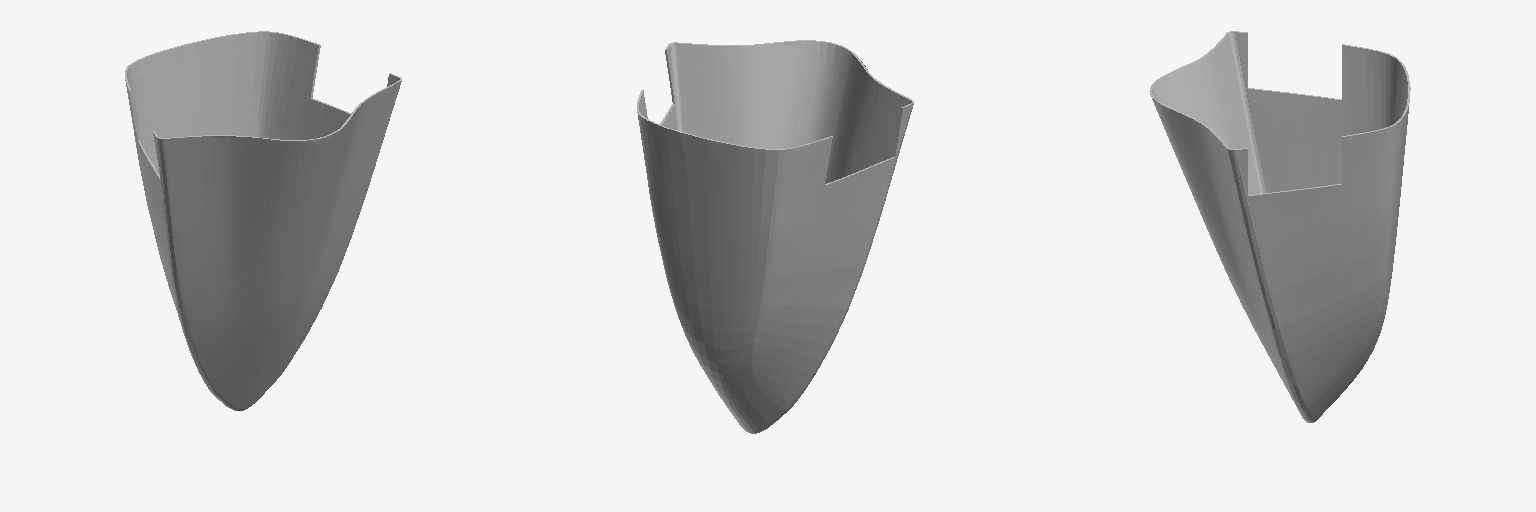
File: Front_cover_optimized.obj
3 renders of one model, left to right at view 1: azimuth 30°, elevation 25°; view 2: azimuth 150°, elevation 25°; view 3: azimuth 270°, elevation 25°, orthographic.
Visible parts, largest first — view 1: 2 front cover; view 2: 2 front cover; view 3: 2 front cover.
Boxes of the visible parts, x1,y1,x2,y2 form: 2 front cover: [125, 31, 401, 410]; 2 front cover: [637, 40, 913, 433]; 2 front cover: [1149, 31, 1410, 422].
Size of the model in its own units: 384 by 497 by 355.